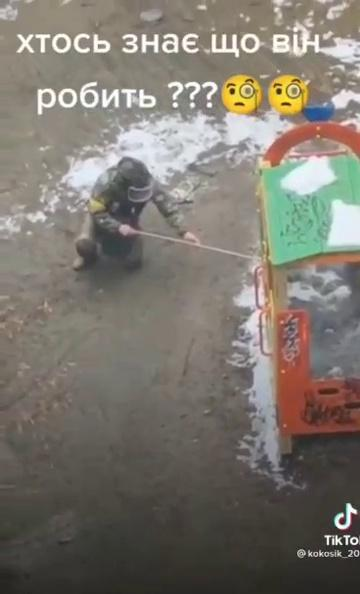person: (70, 155, 207, 275)
